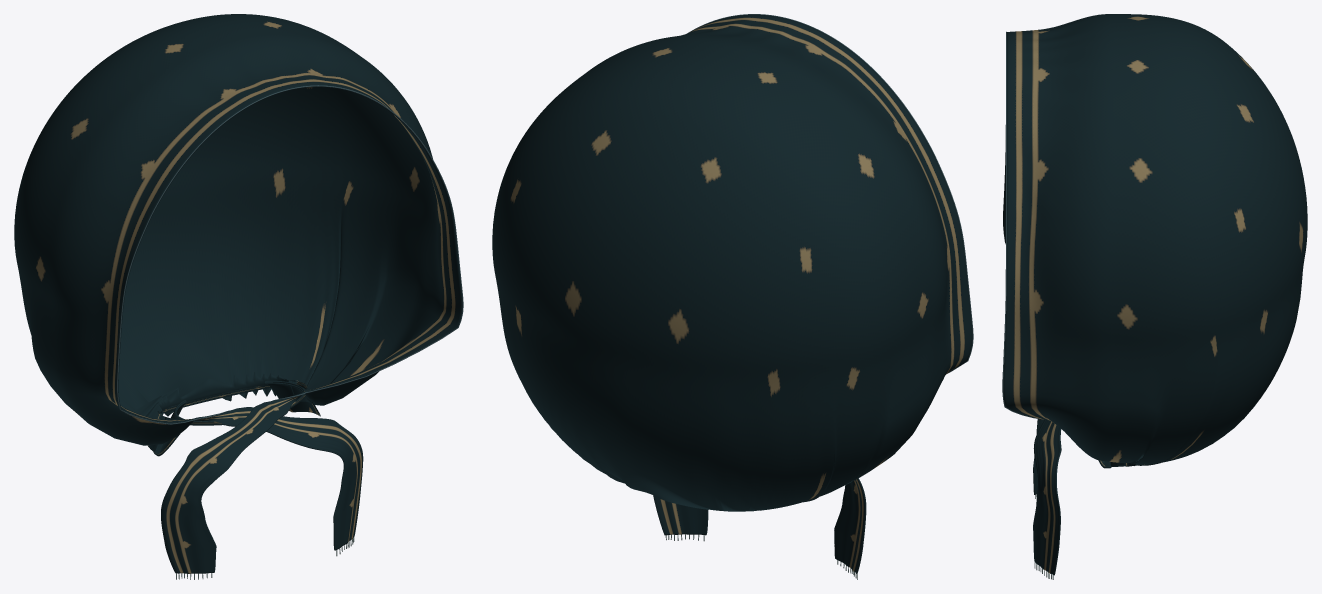
Rendered from Masculine-buzz-sweatshirt-pashmina250-headgear.glb.
3 renders of one model, left to right at view 1: azimuth 30°, elevation 25°; view 2: azimuth 150°, elevation 25°; view 3: azimuth 270°, elevation 25°, orthographic. The views are drawn at different scales.
Parts seen in each view (by area): view 1: 226 headgear / Headwear / continuous woven pashmina239, 226 headgear / Headwear / face edge239; view 2: 226 headgear / Headwear / continuous woven pashmina239, 226 headgear / Headwear / face edge239; view 3: 226 headgear / Headwear / continuous woven pashmina239, 226 headgear / Headwear / face edge239.
Boxes of the visible parts, x1,y1,x2,y2 form: 226 headgear / Headwear / continuous woven pashmina239: (14, 14, 462, 573); 226 headgear / Headwear / face edge239: (117, 85, 463, 424); 226 headgear / Headwear / continuous woven pashmina239: (492, 14, 972, 573); 226 headgear / Headwear / face edge239: (687, 14, 973, 373); 226 headgear / Headwear / continuous woven pashmina239: (1003, 14, 1307, 575); 226 headgear / Headwear / face edge239: (1002, 31, 1037, 418).
Size of the model in its own units: 1.07 by 1.37 by 0.7558.
3 materials, 1 textured.
